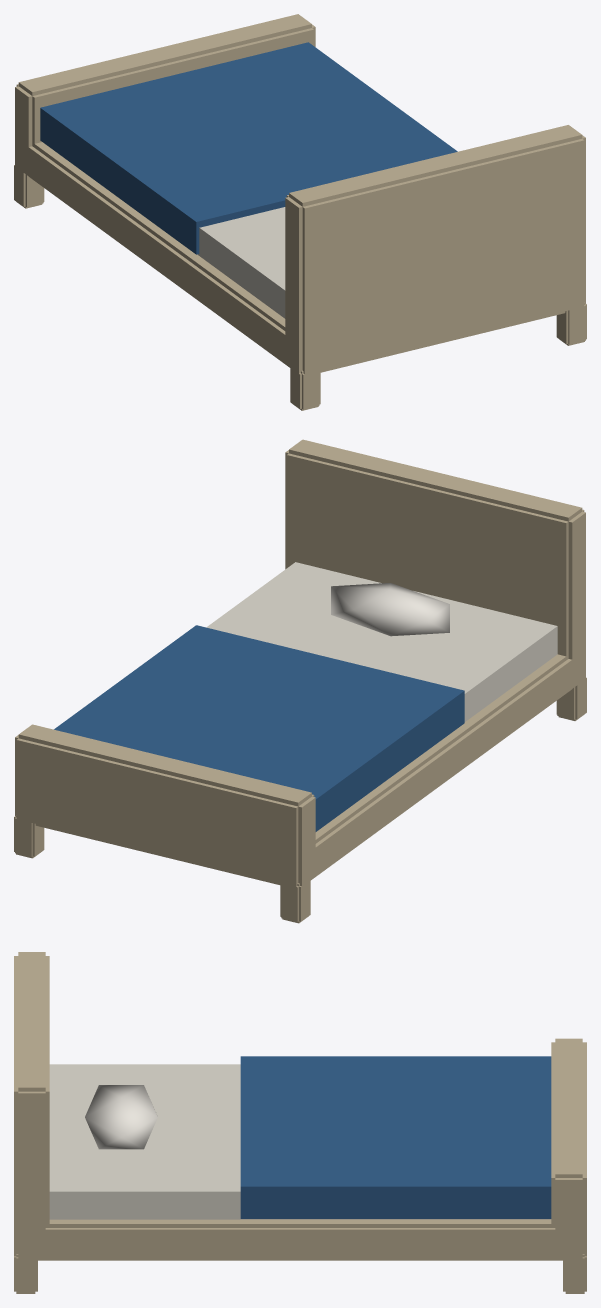
Rendered from boreal_bed_v0.glb.
The picture shows the model from 3 angles, top to bottom: view 1: azimuth 30°, elevation 25°; view 2: azimuth 150°, elevation 25°; view 3: azimuth 270°, elevation 25°; orthographic projection.
Parts seen in each view (by area): view 1: boreal_bed_v0; view 2: boreal_bed_v0; view 3: boreal_bed_v0.
Boxes of the visible parts, bbox=[...] form: boreal_bed_v0: bbox=[14, 14, 586, 410]; boreal_bed_v0: bbox=[14, 439, 586, 923]; boreal_bed_v0: bbox=[14, 952, 586, 1293].
Bounding box in the file's own units: 1.38 × 0.95 × 2.4.
